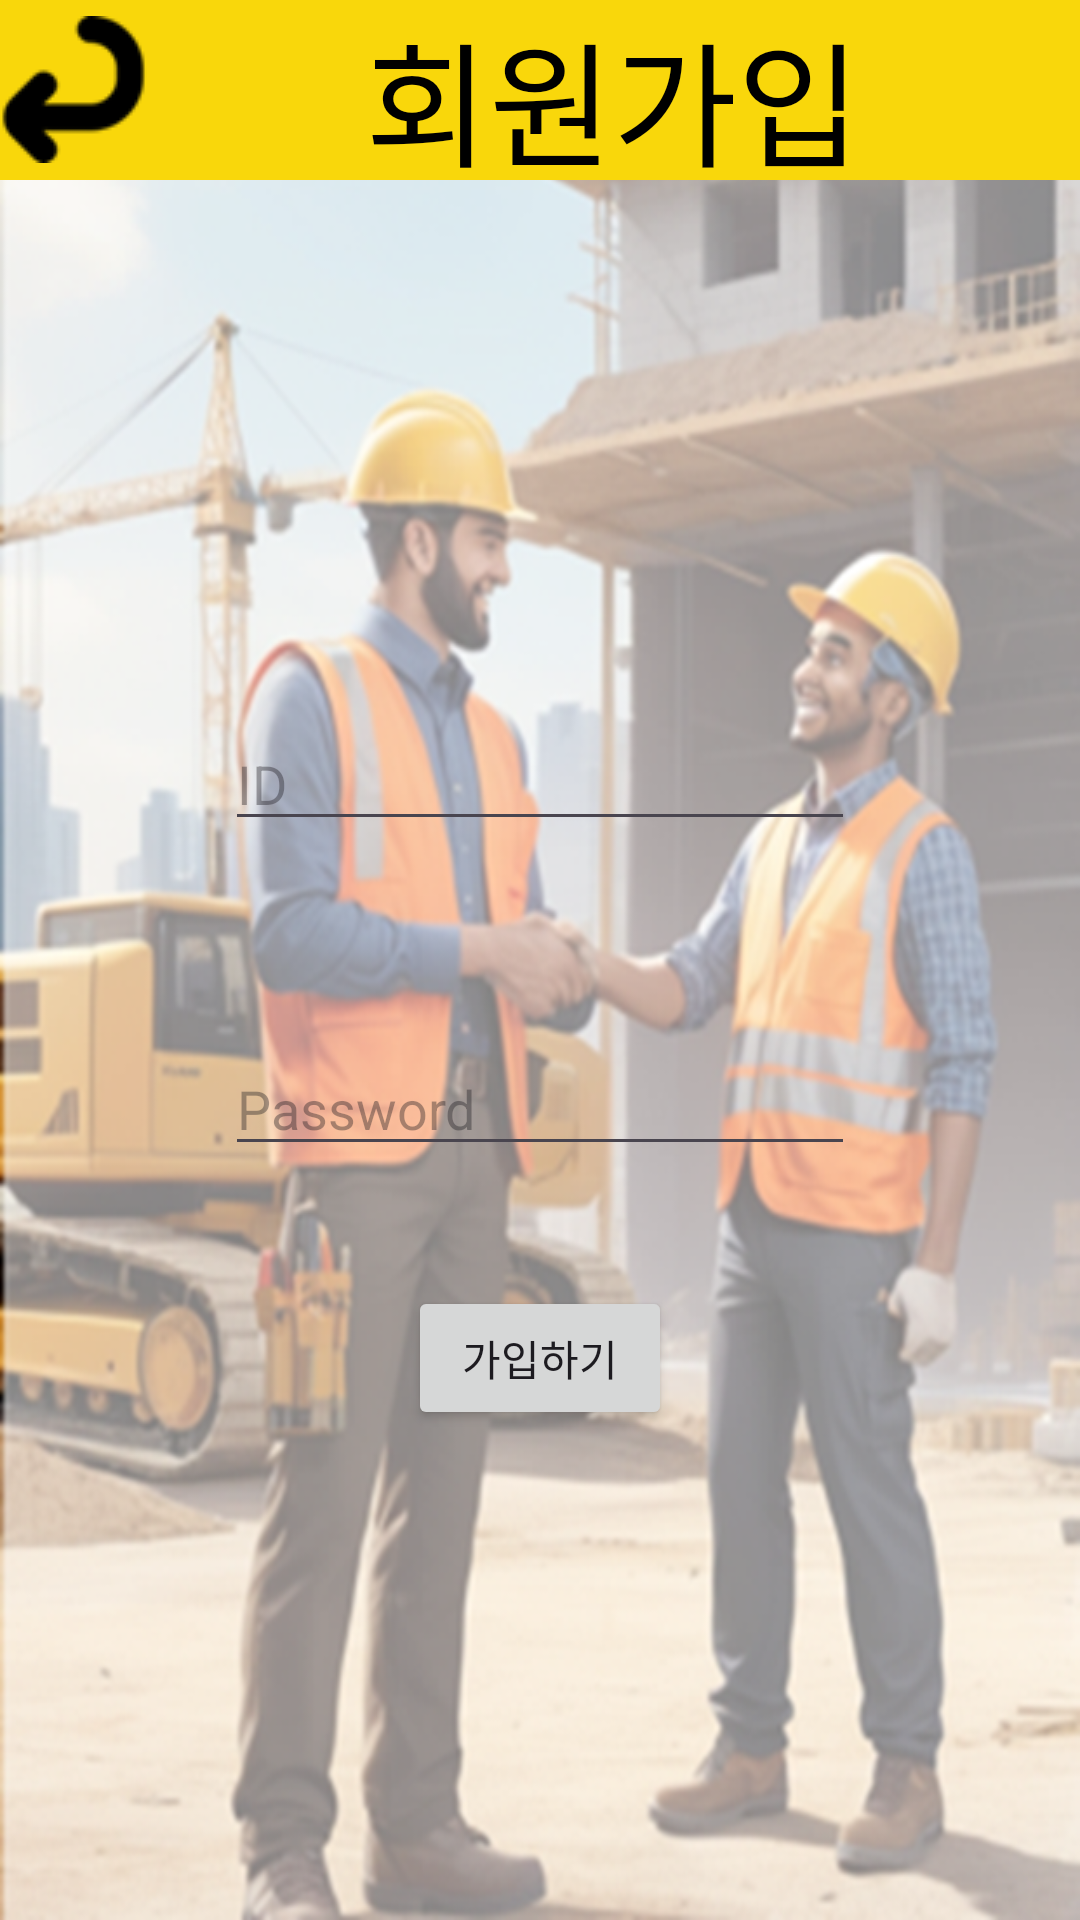

Locate icon controls on the screen. Image size 1080 × 1920, boxes as [x1,y1,x2,y2].
back: [2,16,145,163]
